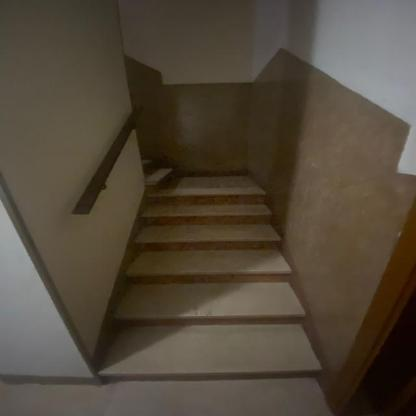stair: (86, 148, 324, 402)
